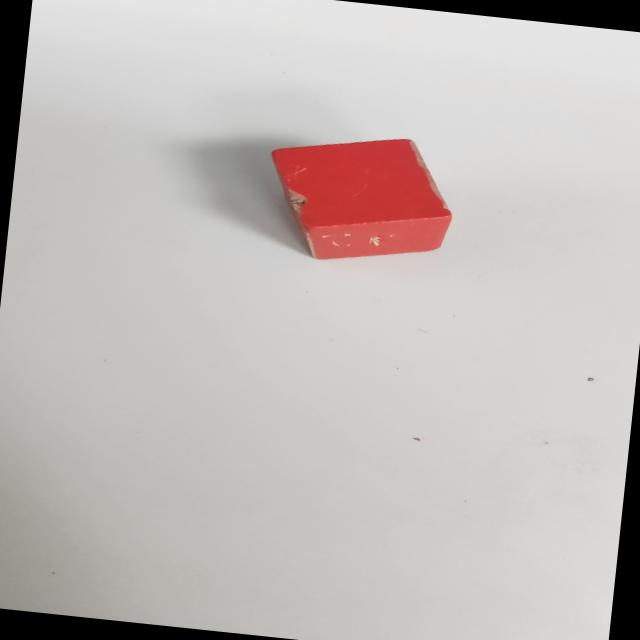broken: (262, 125, 458, 272)
